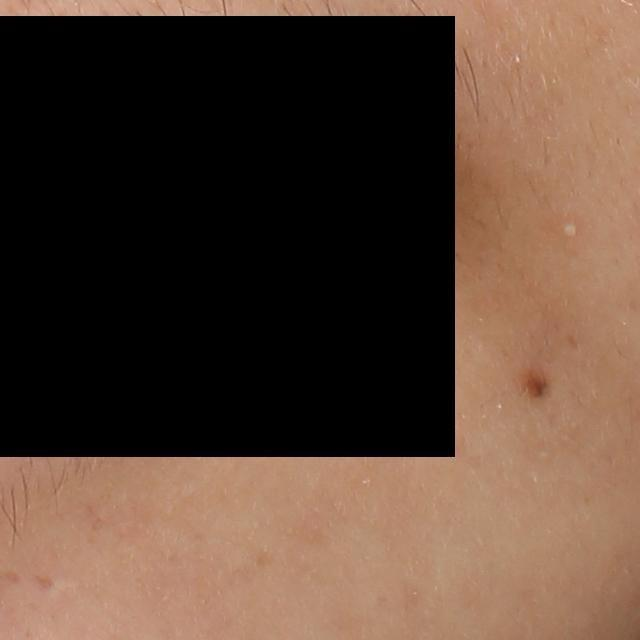atrophic_scar: (32, 573, 57, 590)
nevus: (523, 366, 551, 401)
pustule: (558, 220, 582, 245)
